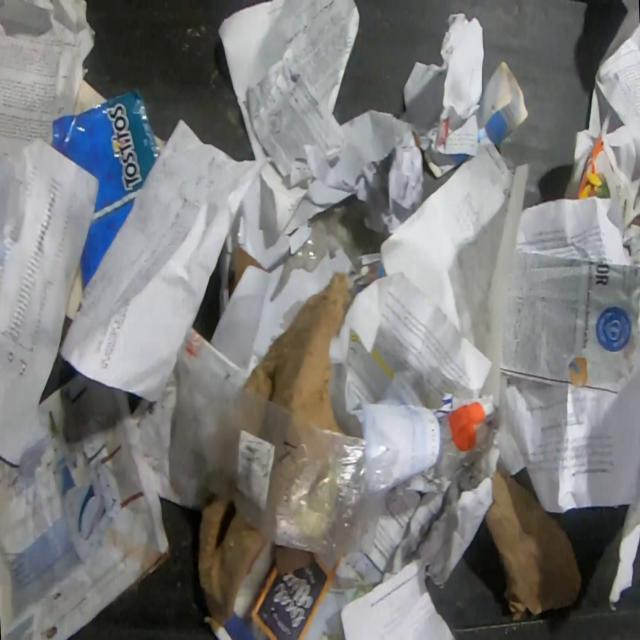cardboard: (242, 272, 352, 434), (197, 497, 271, 629), (234, 245, 266, 290)
soft_plastic: (166, 350, 401, 572), (52, 87, 161, 290)
